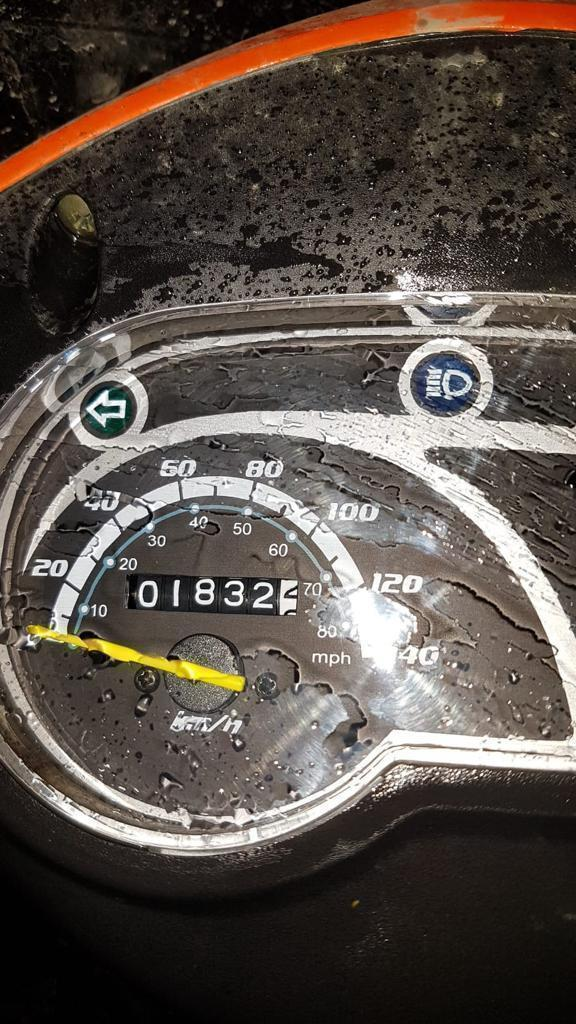0: (136, 578, 160, 610)
1: (169, 576, 183, 609)
2: (250, 580, 274, 615), (282, 575, 299, 603)
3: (223, 578, 246, 609)
8: (193, 577, 216, 609)
odometer: (122, 571, 302, 618)
